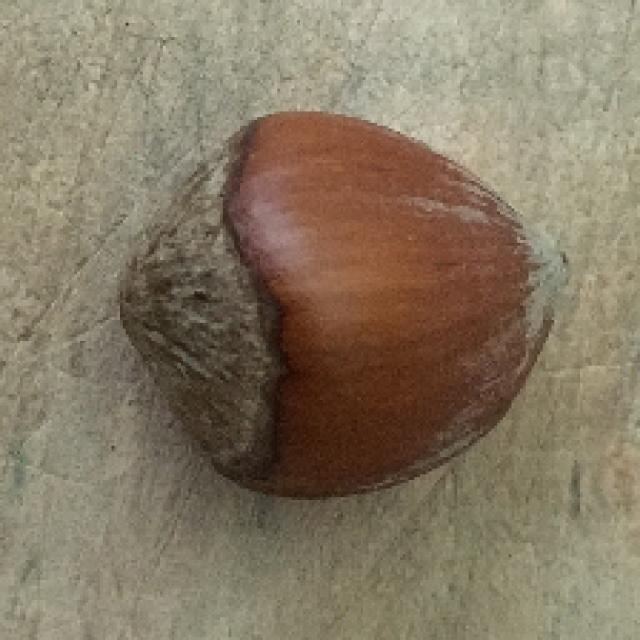qualityHazelnut: (112, 106, 565, 501)
